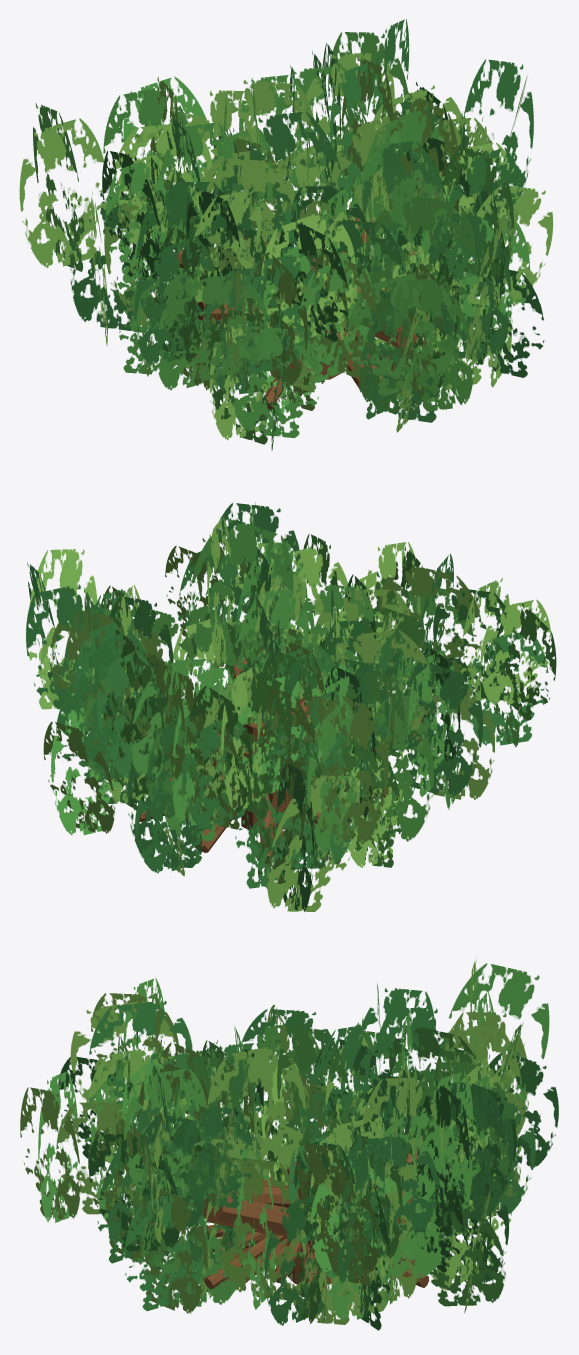
Rendered from Shrub_Green.glb.
3 renders of one model, top to bottom at view 1: azimuth 30°, elevation 25°; view 2: azimuth 150°, elevation 25°; view 3: azimuth 270°, elevation 25°, orthographic. The views are drawn at different scales.
Visible parts, largest first — view 1: ShrubGreen_Static_Mesh; view 2: ShrubGreen_Static_Mesh; view 3: ShrubGreen_Static_Mesh.
Boxes of the visible parts, x1,y1,x2,y2 form: ShrubGreen_Static_Mesh: (19,19,553,450); ShrubGreen_Static_Mesh: (26,502,556,911); ShrubGreen_Static_Mesh: (20,958,558,1330).
Size of the model in its own units: 2.55 by 1.46 by 2.59.
4 materials, 3 textured.
